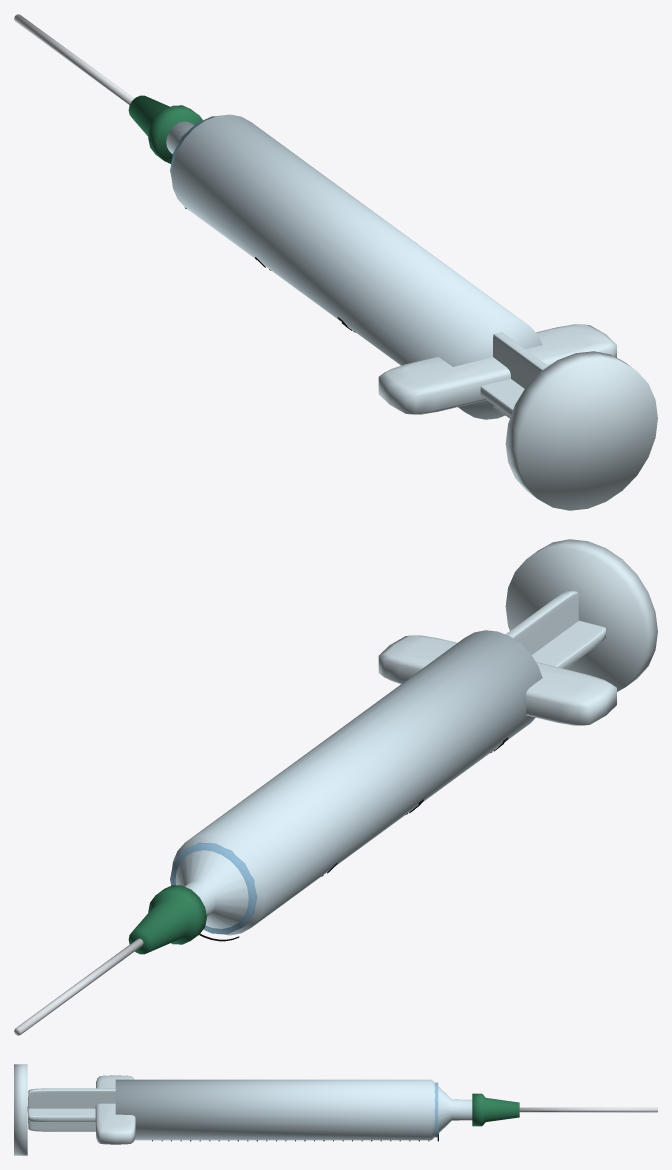
The model's file is syringe_3.glb.
3 views of the same model, one above another, from view 1: azimuth 30°, elevation 25°; view 2: azimuth 150°, elevation 25°; view 3: azimuth 270°, elevation 25° (orthographic). The views are drawn at different scales.
Parts seen in each view (by area): view 1: Barrel, Rod, Flange, Hub, Needle; view 2: Barrel, Rod, Flange, Hub, Level, Needle; view 3: Barrel, Rod, Flange, Hub, Needle, Level.
Part boxes in pixels (x1,y1,x2,y2): Barrel: (166, 114, 542, 419); Rod: (480, 332, 657, 510); Flange: (378, 324, 616, 414); Hub: (128, 95, 202, 163); Needle: (14, 14, 134, 104); Barrel: (172, 630, 542, 935); Rod: (505, 539, 657, 691); Flange: (378, 635, 616, 725); Hub: (128, 885, 206, 954); Level: (170, 842, 257, 934); Needle: (14, 938, 143, 1035); Barrel: (115, 1079, 472, 1140); Rod: (14, 1064, 115, 1155); Flange: (95, 1075, 135, 1144); Hub: (472, 1093, 519, 1126); Needle: (519, 1107, 657, 1112); Level: (434, 1082, 438, 1137).
Size of the model in its own units: 0.0208 by 0.0135 by 0.095.
